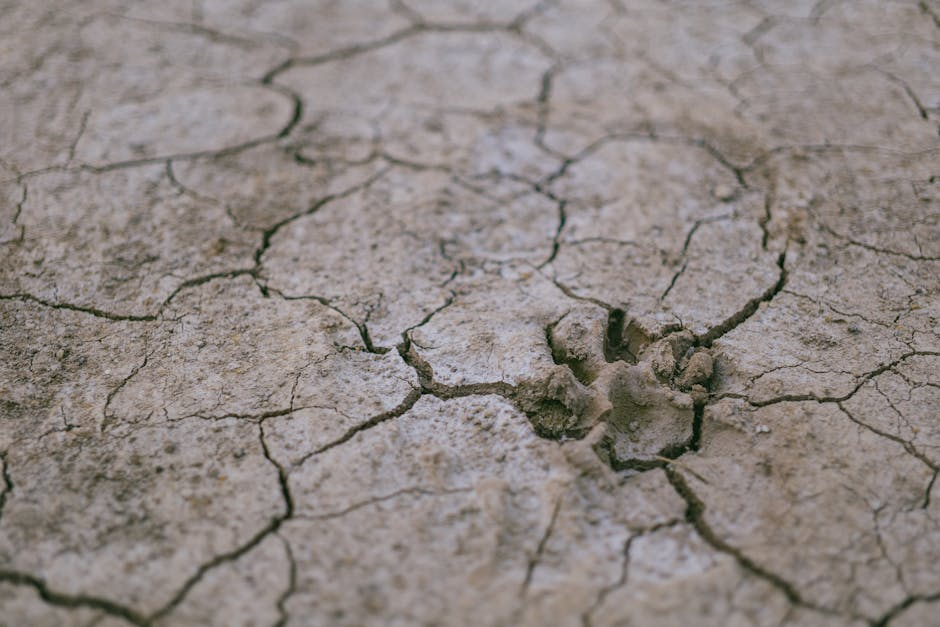细微裂纹: (40, 131, 296, 185), (12, 277, 235, 336)
网状裂隙: (332, 84, 940, 627)
